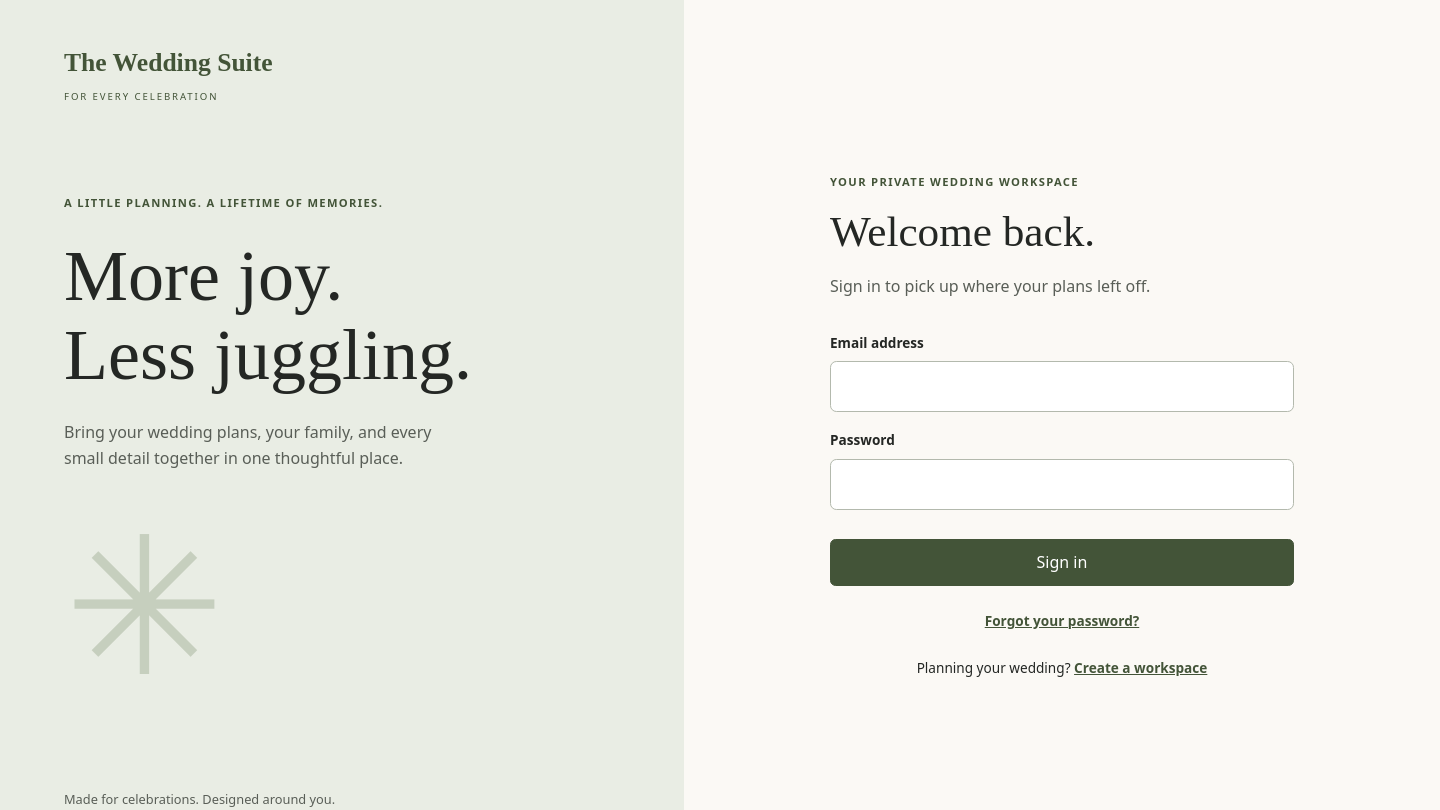
authentication screens › redirects an anonymous dashboard visit to login and presents authentication failure
Expected: the heading "Welcome back." is shown, [830,208,1095,255]
In the field labelled "Email address": (1062, 386) [830,361,1294,412], type "avani@example.test"
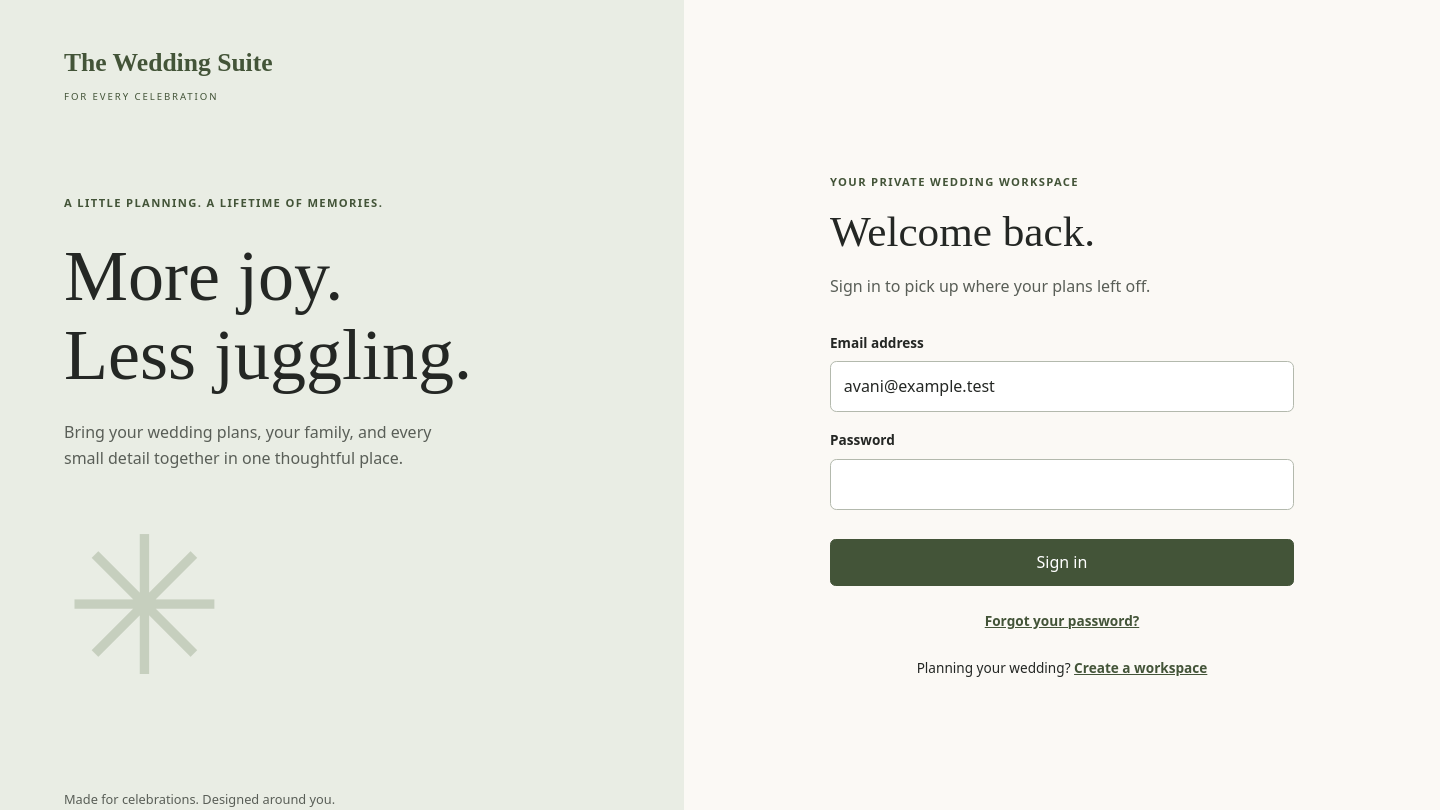
In the password field labelled "Password": (1062, 484) [830,459,1294,510], type "wrong"
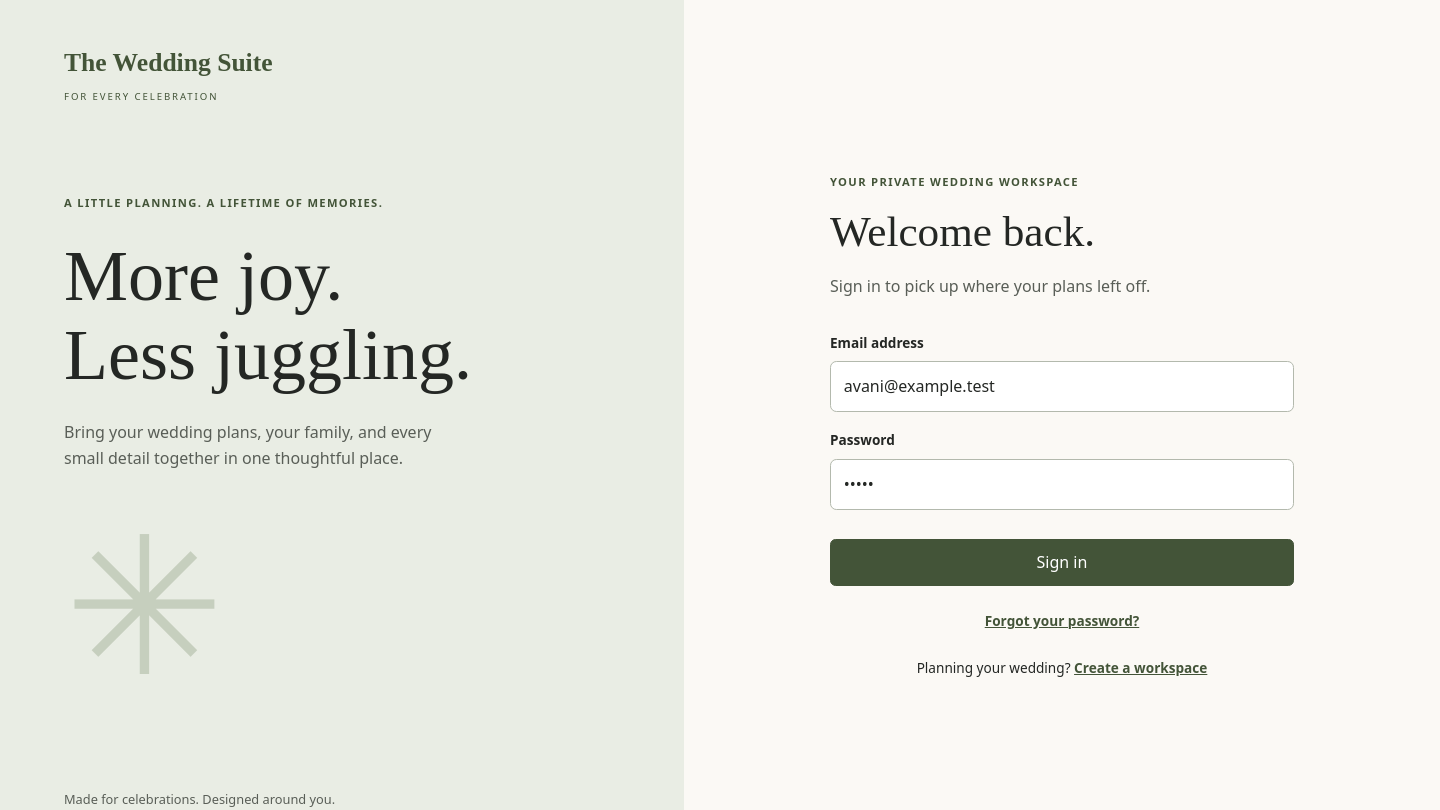
Click the button "Sign in": (1062, 562) [830,539,1294,586]
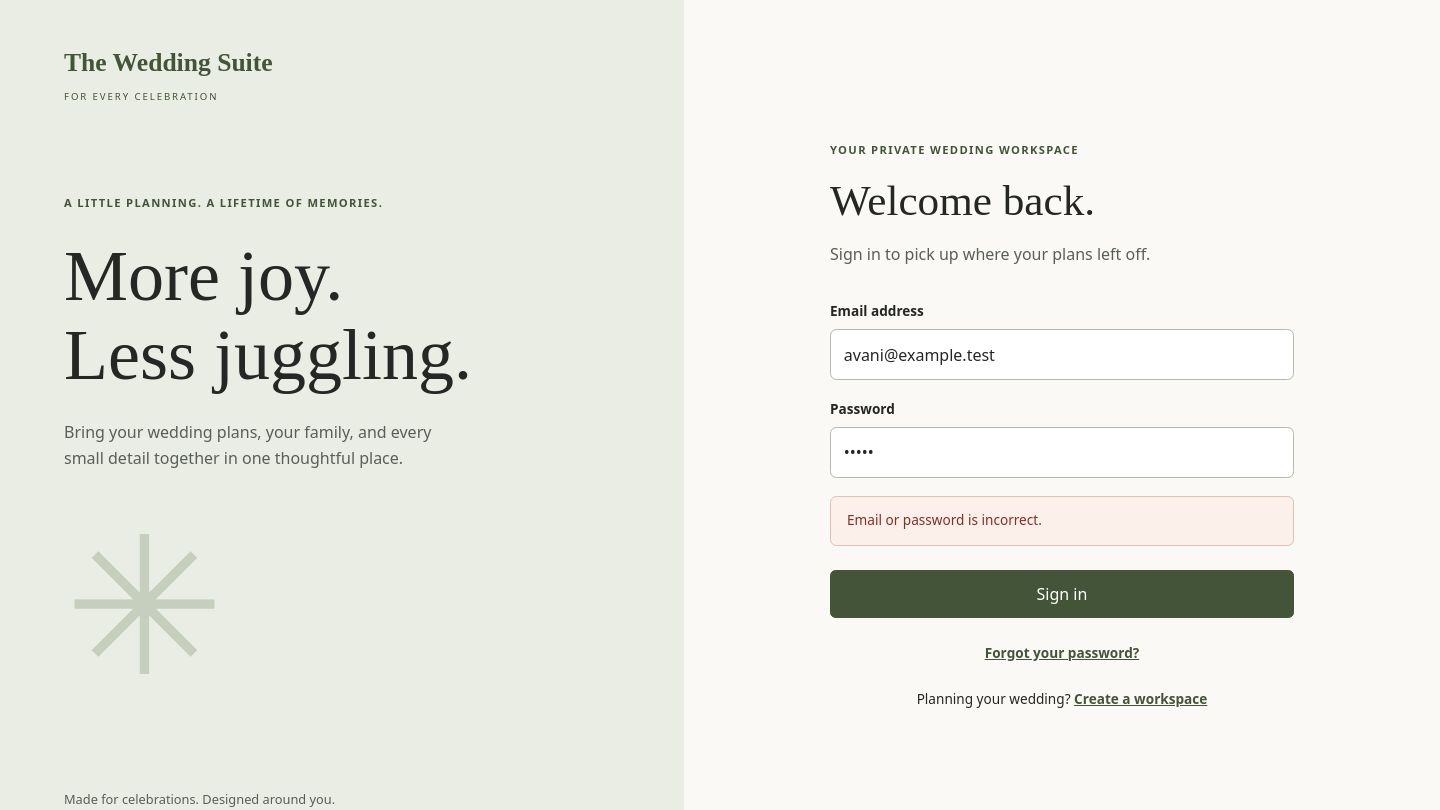
Result: the message reads "Email or password is incorrect." at [847,510,1042,529]
